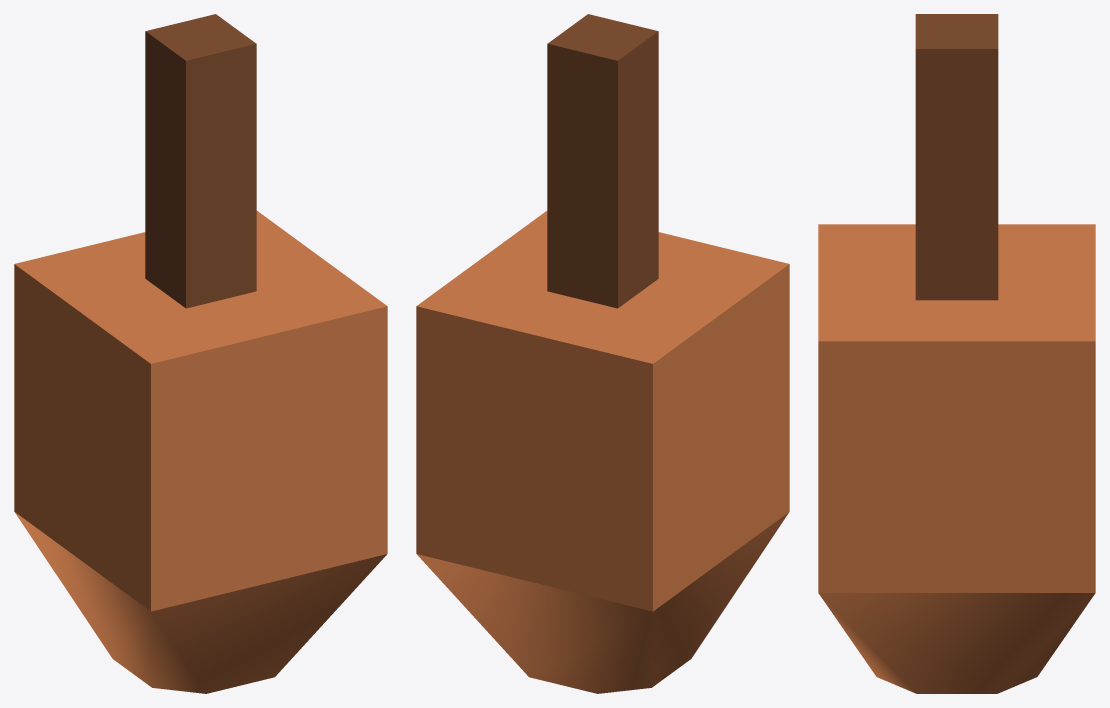
File: hanukkahDreidel.fbx
3 views of the same model, side by side, from view 1: azimuth 30°, elevation 25°; view 2: azimuth 150°, elevation 25°; view 3: azimuth 270°, elevation 25° (orthographic).
Parts seen in each view (by area): view 1: hanukkahDreidel; view 2: hanukkahDreidel; view 3: hanukkahDreidel.
Part boxes in pixels (x1,y1,x2,y2): hanukkahDreidel: [14, 14, 387, 693]; hanukkahDreidel: [416, 14, 789, 693]; hanukkahDreidel: [818, 14, 1095, 693].
Bounding box in the file's own units: 0.74 × 1.85 × 0.74.
